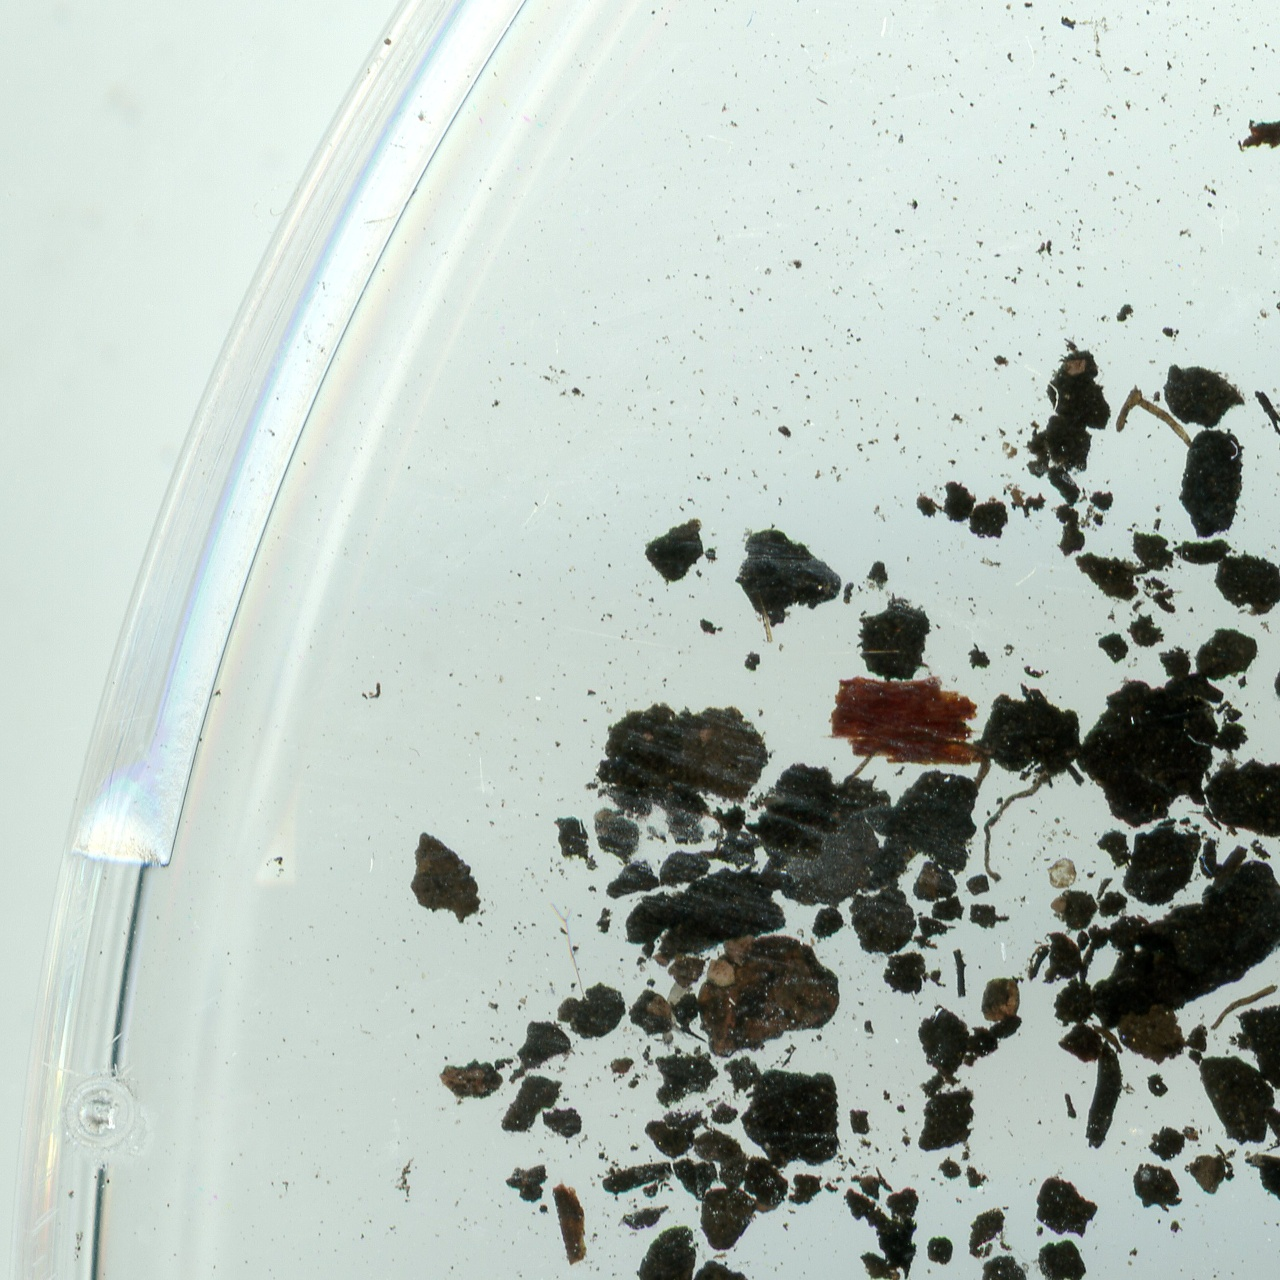arthropod: (649, 954, 701, 1055)
